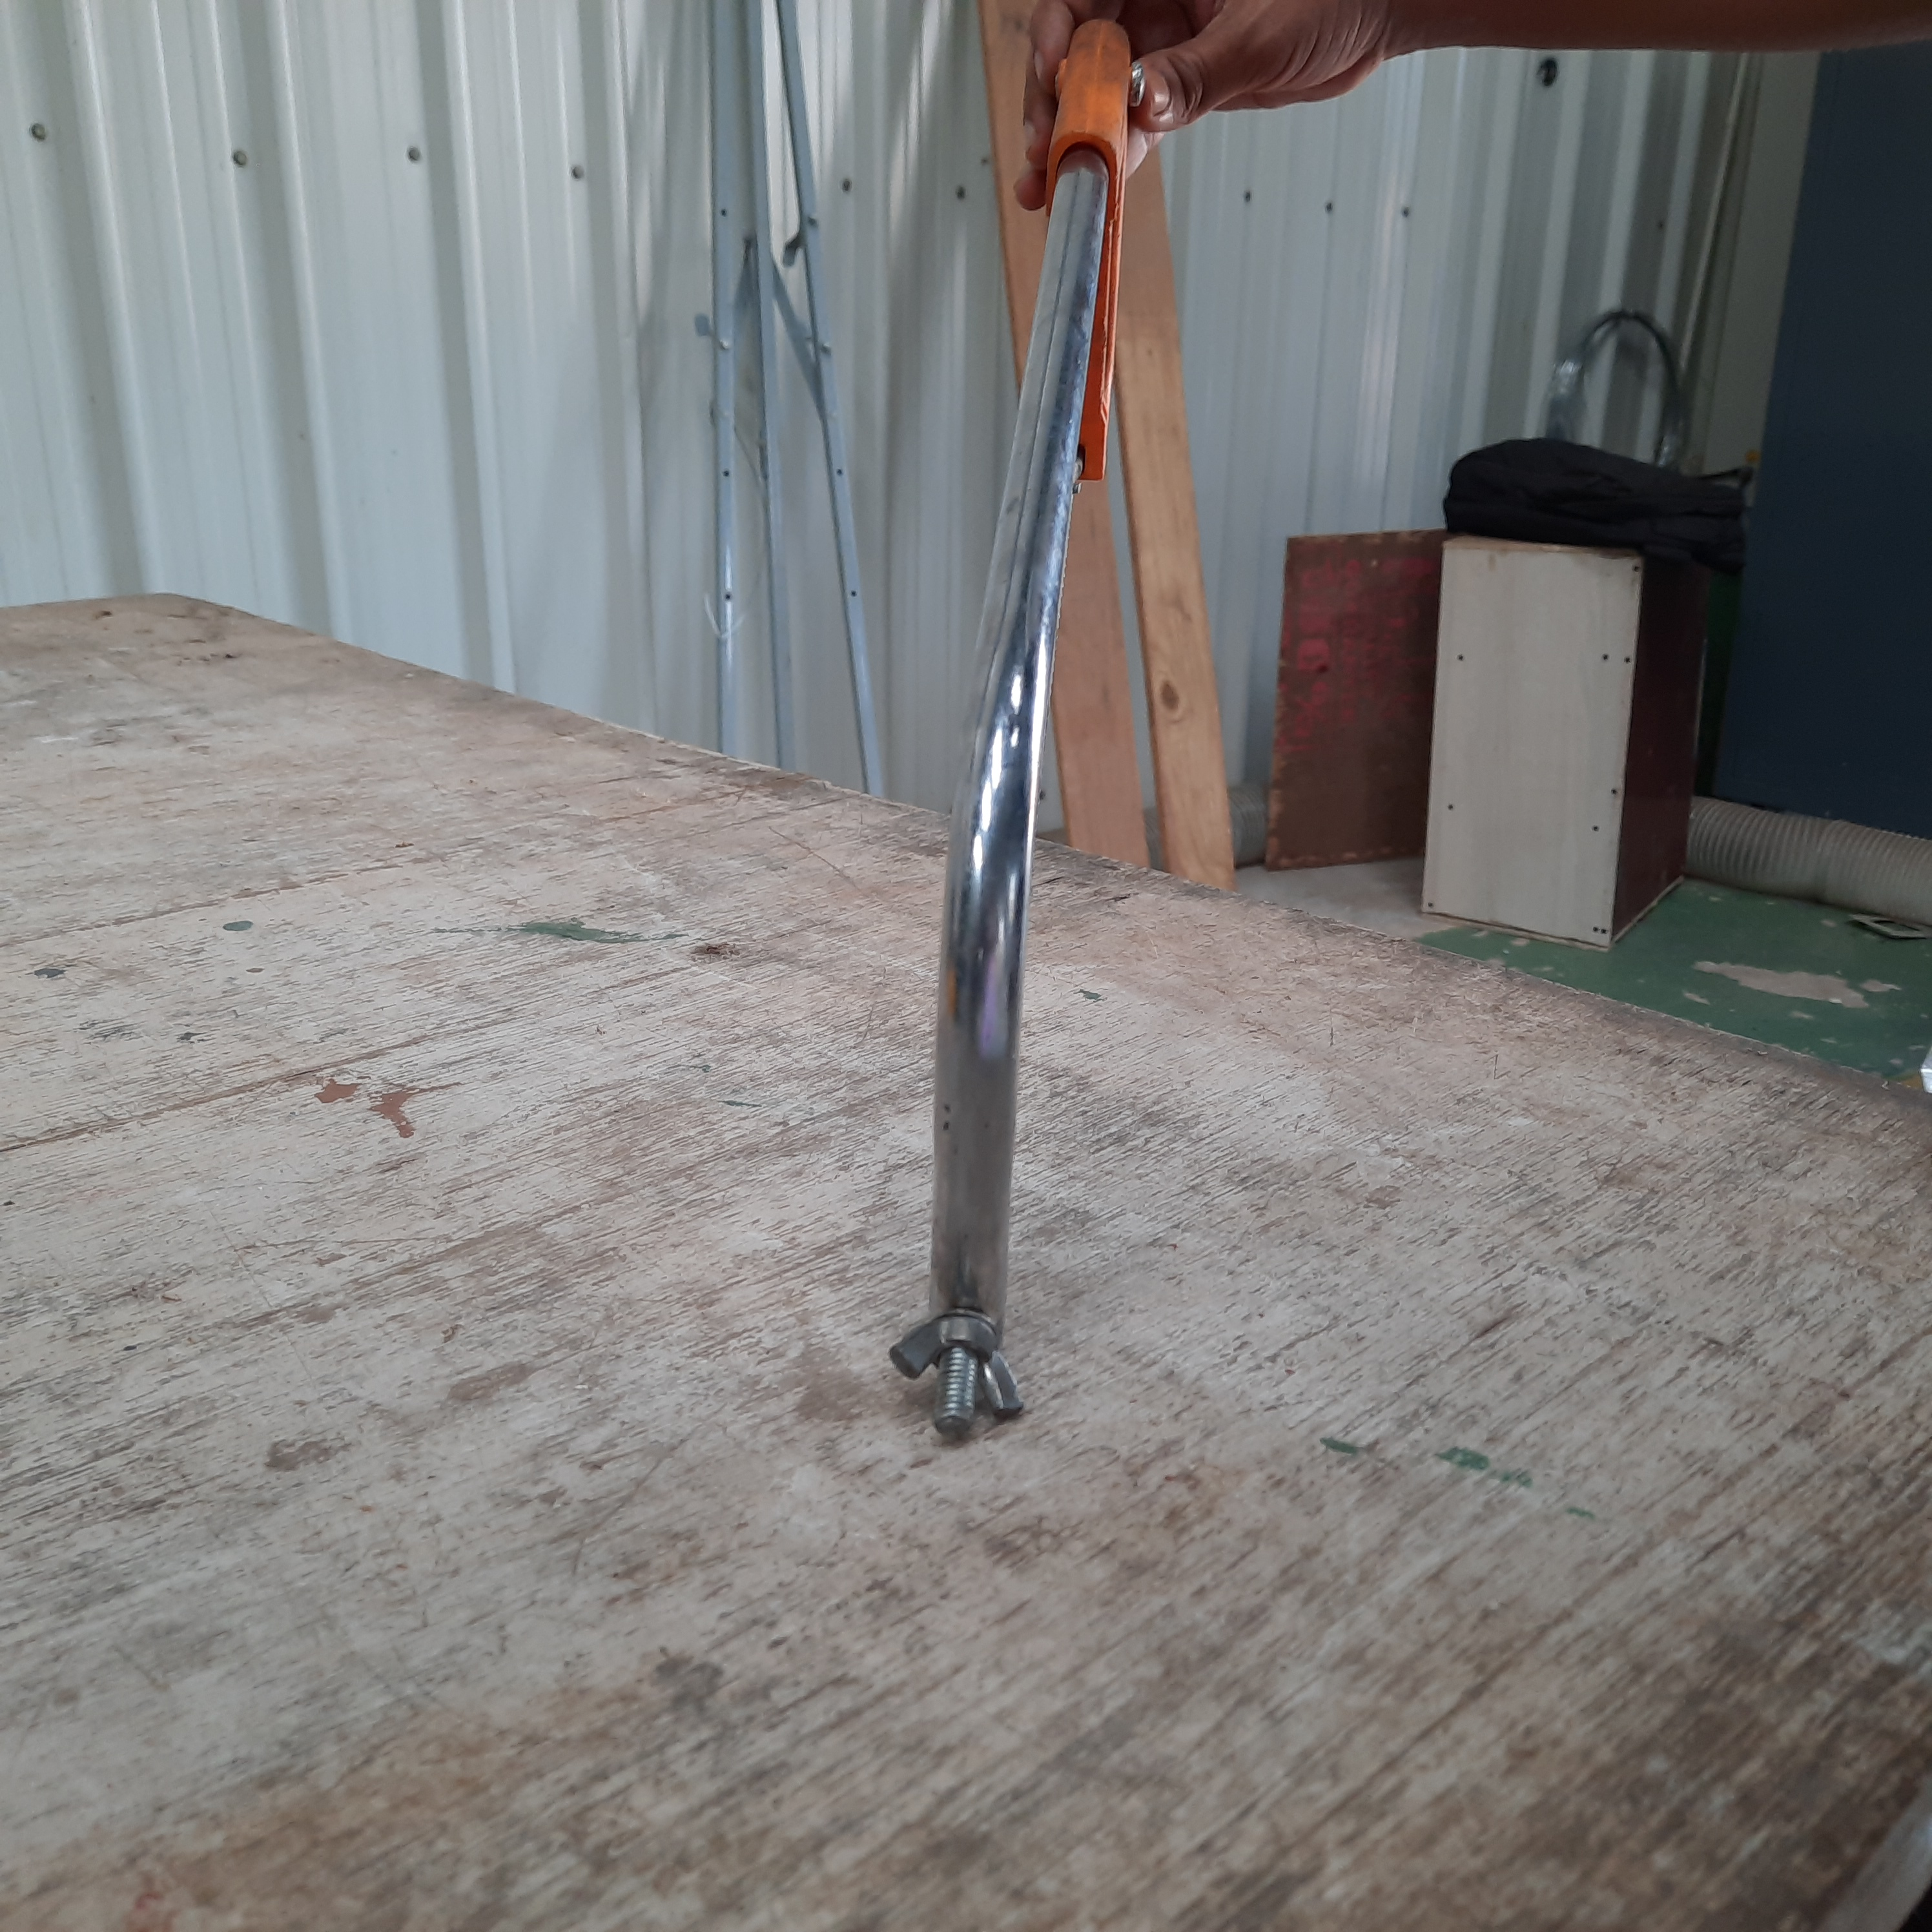Hexaframe: (835, 19, 1269, 1453)
